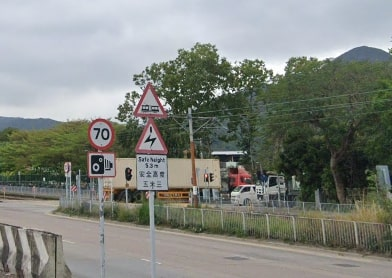Speed Limit: (87, 118, 115, 152)
